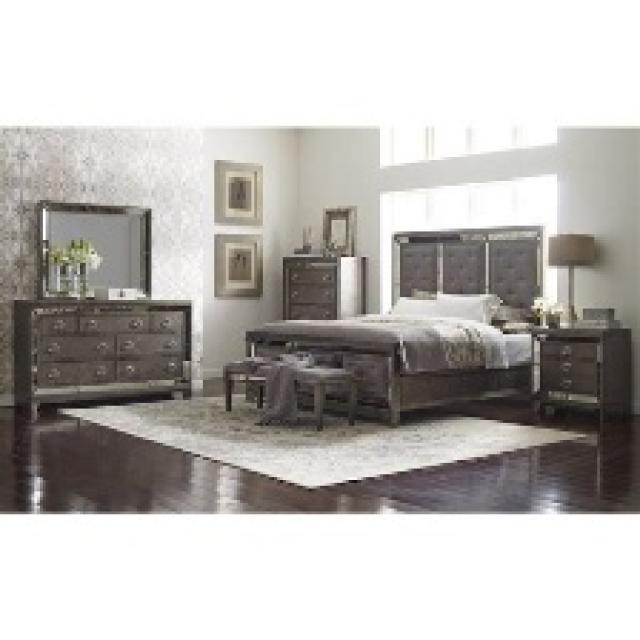Bed: (240, 223, 543, 426)
